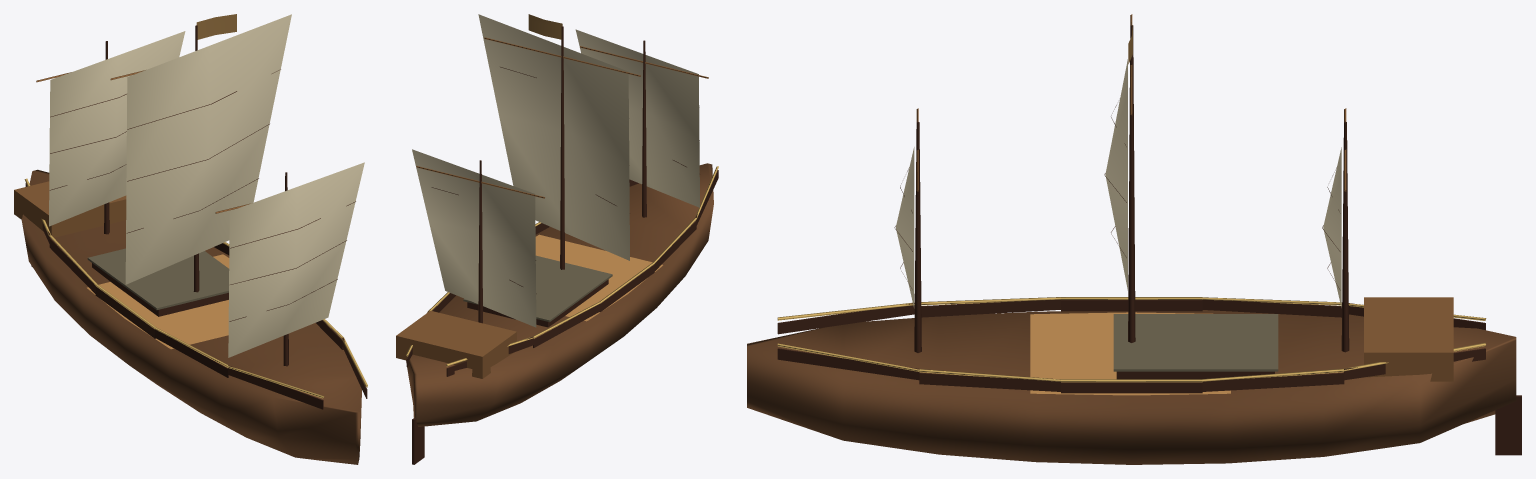
The model's file is merchant-lod2.glb.
The picture shows the model from 3 angles, left to right: view 1: azimuth 30°, elevation 25°; view 2: azimuth 150°, elevation 25°; view 3: azimuth 270°, elevation 25°; orthographic projection. The views are drawn at different scales.
Parts seen in each view (by area): view 1: sail_02, hull, sail_03, sail_01, fittings_wood, fittings_deck, deck, fittings_trim, cargo_hold_body, flag_01; view 2: sail_02, hull, sail_01, sail_03, fittings_wood, fittings_deck, deck, fittings_trim, mast_timber_02, mast_timber_03, mast_timber_01, cargo_hold_body (+3 smaller); view 3: hull, fittings_wood, fittings_deck, deck, fittings_trim, sail_02, mast_timber_02, sail_03, sail_01, rudder_pivot, mast_timber_03, mast_timber_01 (+1 smaller).
Boxes of the visible parts, x1,y1,x2,y2 form: sail_02: (125, 14, 291, 284); hull: (21, 169, 361, 464); sail_03: (228, 162, 364, 357); sail_01: (49, 31, 185, 226); fittings_wood: (14, 181, 367, 409); fittings_deck: (87, 248, 229, 309); deck: (87, 254, 229, 349); fittings_trim: (24, 178, 367, 398); cargo_hold_body: (92, 263, 228, 316); flag_01: (196, 14, 236, 39); sail_02: (478, 14, 629, 260); hull: (406, 163, 713, 426); sail_01: (412, 149, 536, 327); sail_03: (575, 29, 699, 207); fittings_wood: (396, 170, 718, 378); fittings_deck: (463, 255, 612, 322); deck: (535, 234, 662, 321); fittings_trim: (406, 166, 718, 366); mast_timber_02: (560, 26, 564, 269); mast_timber_03: (642, 40, 646, 217); mast_timber_01: (478, 160, 482, 323); cargo_hold_body: (467, 279, 608, 327); hull: (747, 310, 1516, 464); fittings_wood: (777, 297, 1485, 393); fittings_deck: (1113, 314, 1278, 371); deck: (1030, 312, 1230, 395); fittings_trim: (777, 297, 1486, 382); sail_02: (1104, 59, 1127, 290); mast_timber_02: (1128, 25, 1135, 342); sail_03: (894, 147, 914, 308); sail_01: (1322, 147, 1341, 307); rudder_pivot: (1495, 395, 1521, 455); mast_timber_03: (914, 121, 921, 352); mast_timber_01: (1341, 121, 1349, 352).
Bounding box in the file's own units: 11.55 × 22.36 × 36.26.
